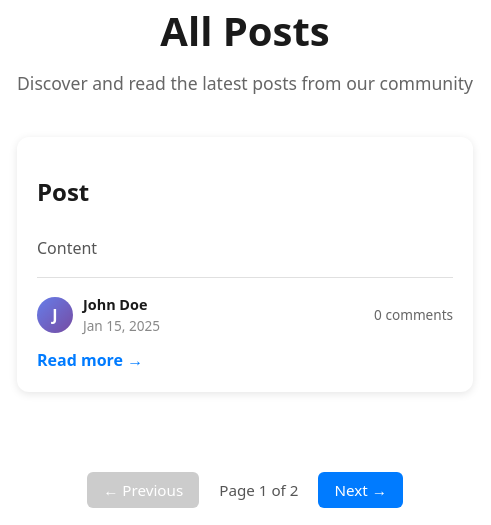
Test: PostsList Component › Pagination › should disable "Next" button on last page
Expected: the heading "Post" is shown, [37, 176, 89, 208]
Click the button "Next →". click: click(361, 490)
box: [318, 472, 403, 508]
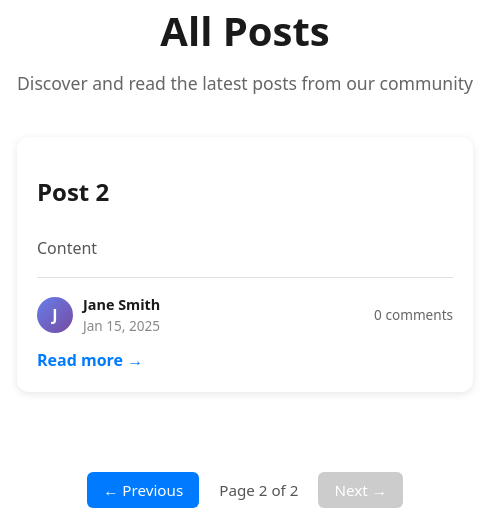
Now the button "Next →" is disabled, box [318, 472, 403, 508]
